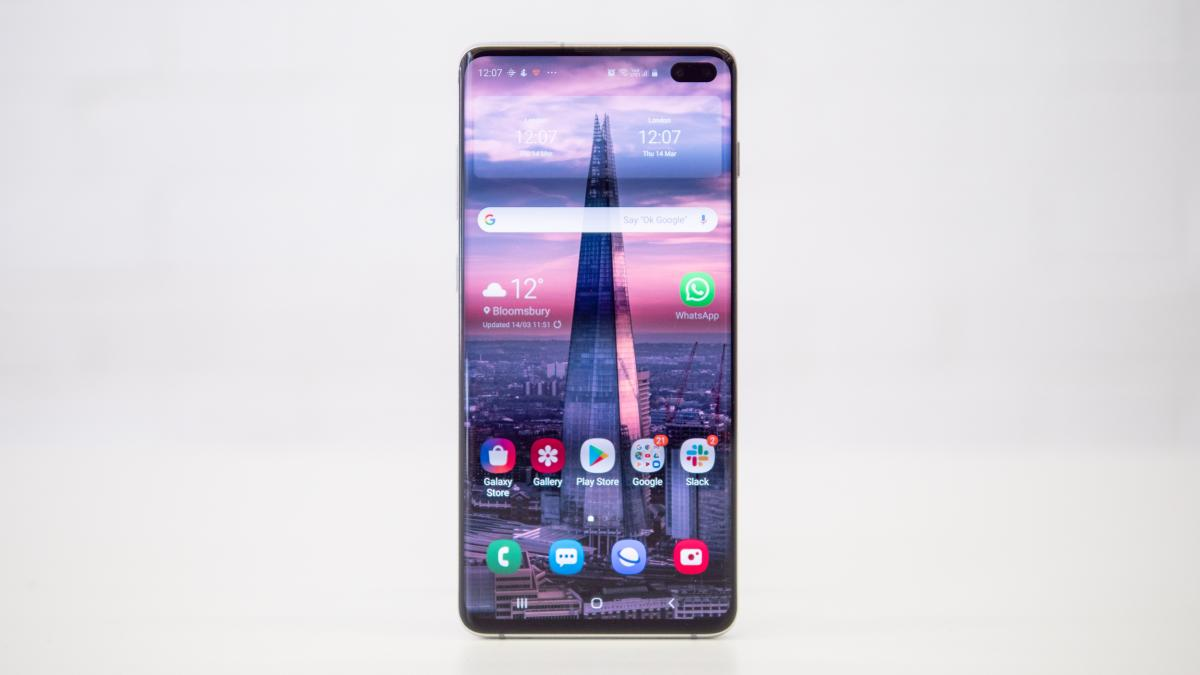phone: (450, 39, 752, 650)
